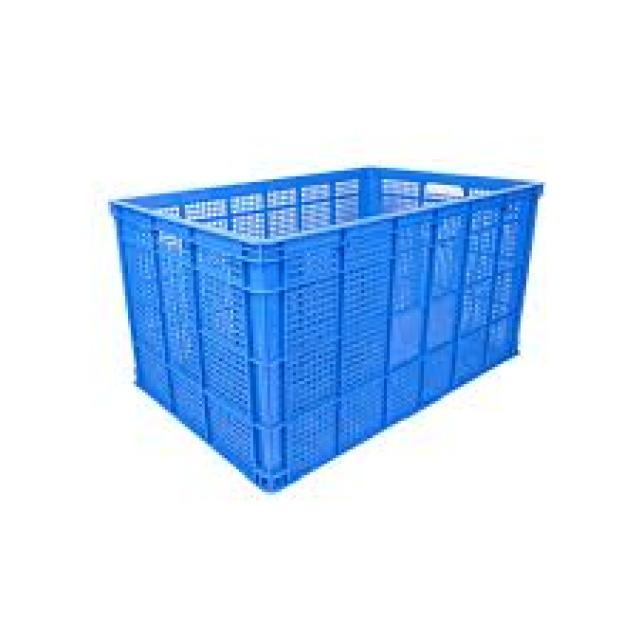basket: (106, 132, 586, 512)
